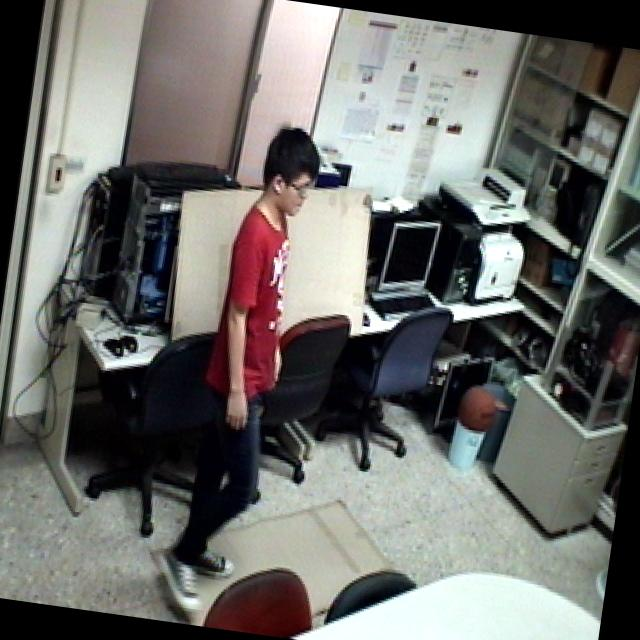stand: (139, 100, 338, 636)
